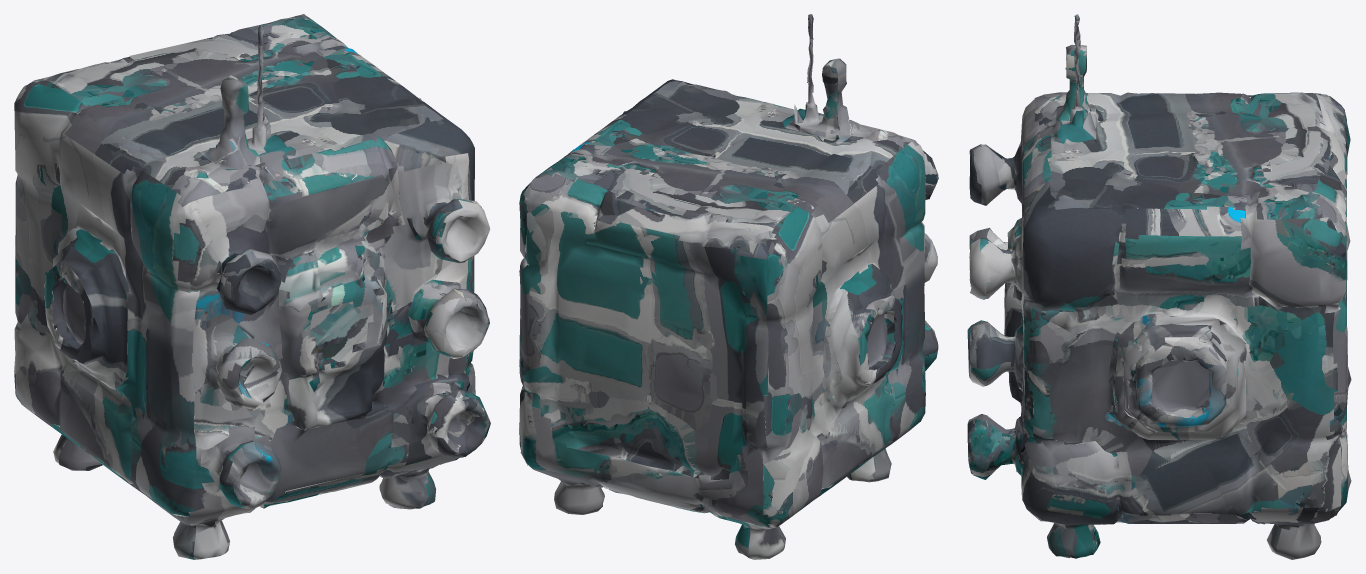
File: SM_Medical.fbx
3 renders of one model, left to right at view 1: azimuth 30°, elevation 25°; view 2: azimuth 150°, elevation 25°; view 3: azimuth 270°, elevation 25°, orthographic. The views are drawn at different scales.
Visible parts, largest first — view 1: SMT_Medical; view 2: SMT_Medical; view 3: SMT_Medical.
Boxes of the visible parts, left/top/right/bottom form: SMT_Medical: left=14, top=14, right=490, bottom=559; SMT_Medical: left=519, top=14, right=938, bottom=559; SMT_Medical: left=967, top=14, right=1351, bottom=559.
Size of the model in its own units: 0.6994 by 0.9465 by 0.7007.
